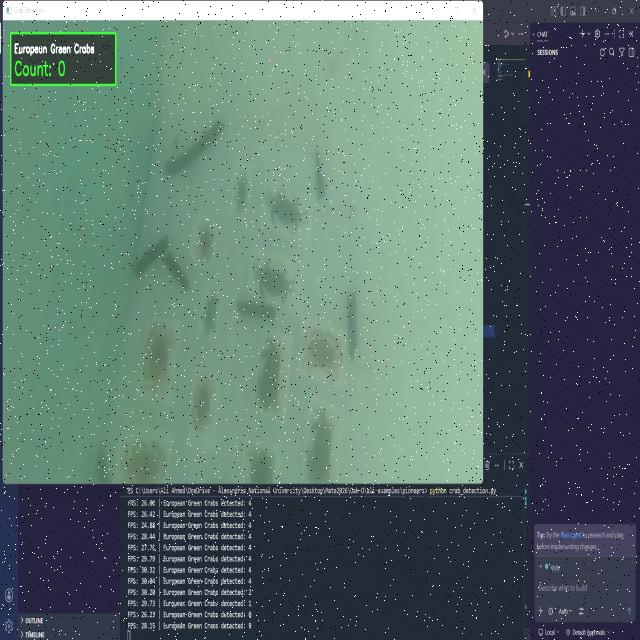European_Green_Crab: (249, 251, 300, 308), (263, 181, 308, 237), (231, 167, 253, 221), (199, 285, 220, 339)
